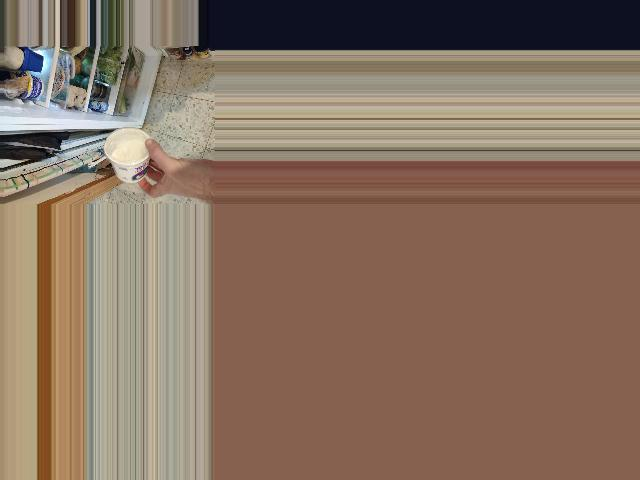cotage: (107, 129, 155, 185)
